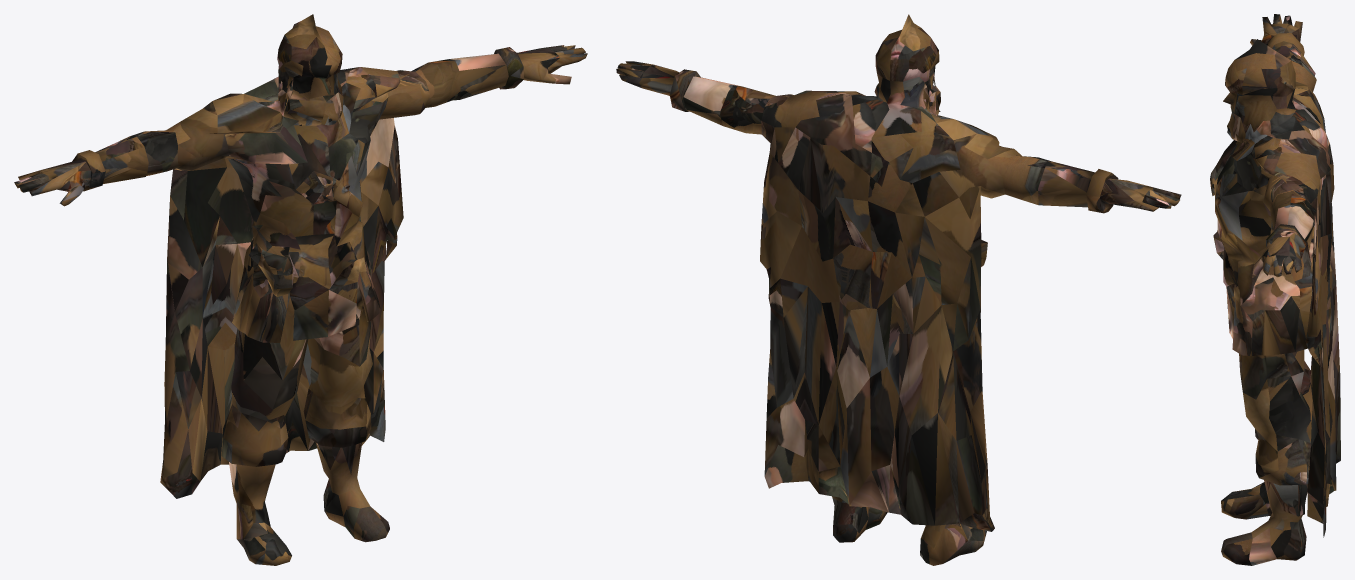
The model's file is vikingoguerrero.fbx.
3 renders of one model, left to right at view 1: azimuth 30°, elevation 25°; view 2: azimuth 150°, elevation 25°; view 3: azimuth 270°, elevation 25°, orthographic. The views are drawn at different scales.
Parts seen in each view (by area): view 1: temp; view 2: temp; view 3: temp.
Part boxes in pixels (bbox=[...]): temp: bbox=[14, 14, 587, 565]; temp: bbox=[616, 14, 1181, 565]; temp: bbox=[1210, 14, 1340, 565].
Size of the model in its own units: 200 by 179 by 42.67.
